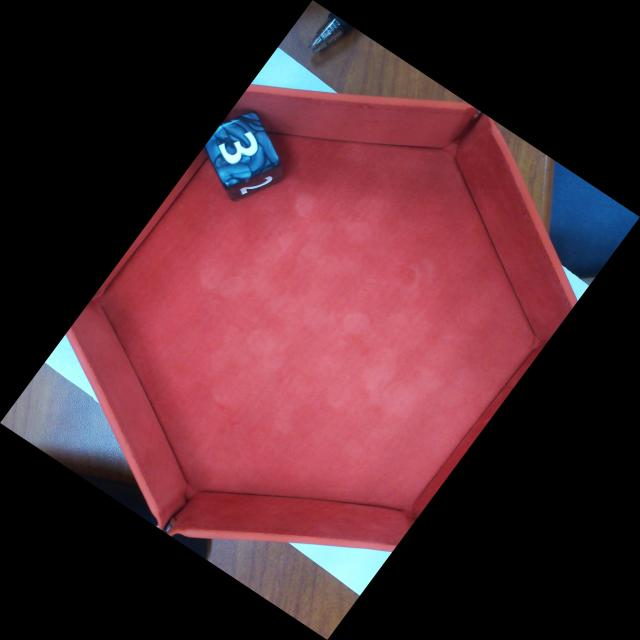dice: (195, 108, 284, 188)
